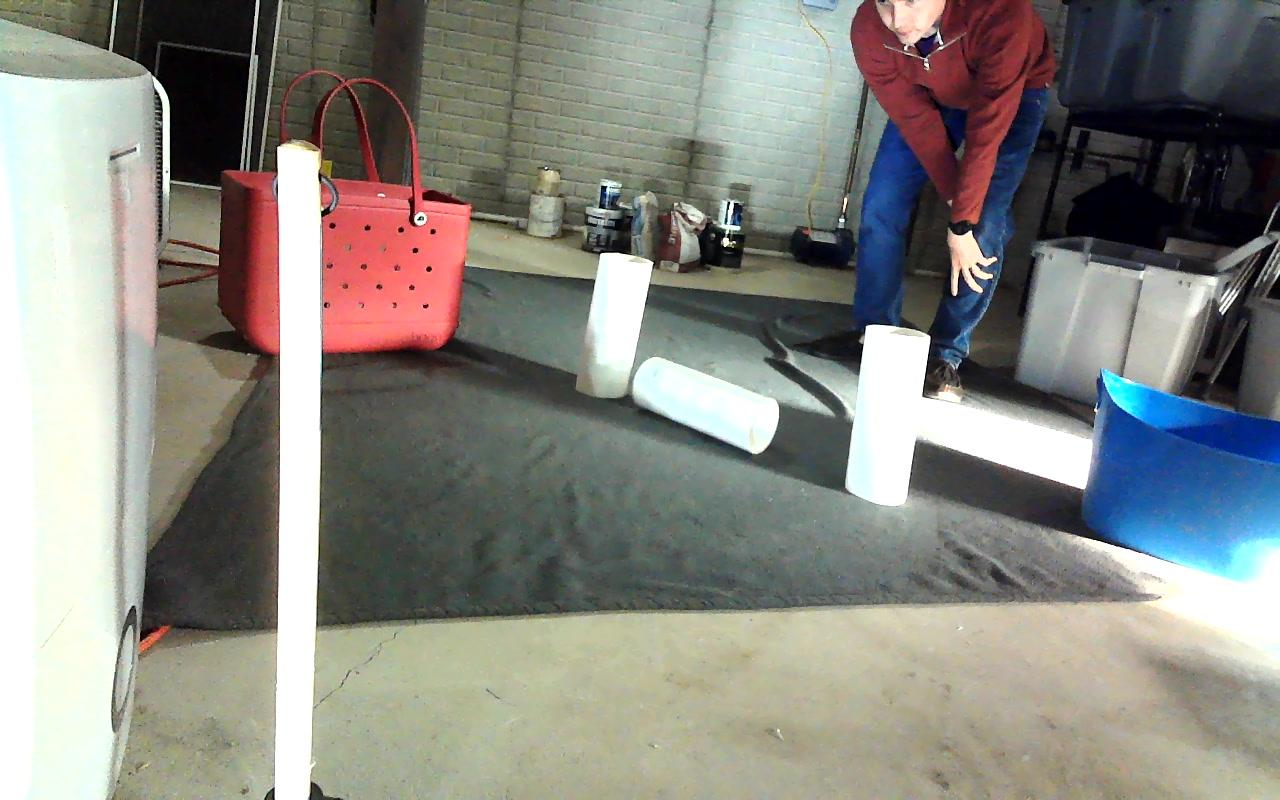coral: (845, 325, 928, 505), (632, 357, 778, 452), (584, 253, 650, 396)
